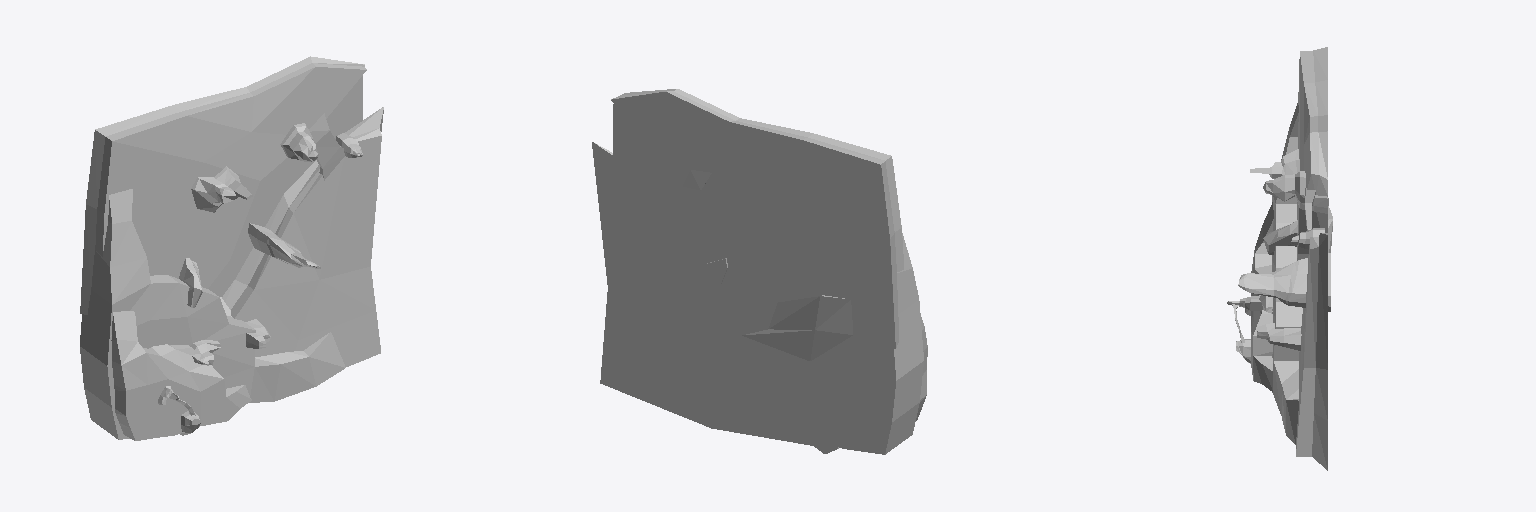
Rendered from canyon.obj.
3 renders of one model, left to right at view 1: azimuth 30°, elevation 25°; view 2: azimuth 150°, elevation 25°; view 3: azimuth 270°, elevation 25°, orthographic.
Visible parts, largest first — view 1: Plane.001_Plane.003, Plane_Plane.002, Cube_Cube.001, Cube.001_Cube.002, size_ref_Plane.001, Cube.005_Cube.006, Cube.006_Cube.007, Cube.002_Cube.003, Cube.003_Cube.004, Cube.008_Cube.009, Cube.009_Cube.010; view 2: size_ref_Plane.001, Plane.001_Plane.003, Cube_Cube.001, Plane_Plane.002, Cube.001_Cube.002, Cube.006_Cube.007, Cube.003_Cube.004; view 3: Plane_Plane.002, Plane.001_Plane.003, Cube_Cube.001, Cube.006_Cube.007, Cube.001_Cube.002, Cube.003_Cube.004, Cube.007_Cube.008, Cube.005_Cube.006, Cube.008_Cube.009.
Boxes of the visible parts, box(x1,y1,x2,y2) form: Plane.001_Plane.003: box(80, 56, 366, 314); Plane_Plane.002: box(222, 107, 383, 366); Cube_Cube.001: box(80, 189, 345, 439); Cube.001_Cube.002: box(111, 311, 251, 440); size_ref_Plane.001: box(208, 76, 362, 296); Cube.005_Cube.006: box(191, 166, 252, 212); Cube.006_Cube.007: box(248, 223, 320, 268); Cube.002_Cube.003: box(309, 113, 344, 180); Cube.003_Cube.004: box(280, 123, 318, 161); Cube.008_Cube.009: box(179, 258, 202, 307); Cube.009_Cube.010: box(190, 340, 220, 365); size_ref_Plane.001: box(613, 104, 878, 446); Plane.001_Plane.003: box(611, 89, 903, 349); Cube_Cube.001: box(644, 211, 923, 454); Plane_Plane.002: box(592, 142, 812, 445); Cube.001_Cube.002: box(768, 313, 927, 452); Cube.006_Cube.007: box(687, 258, 727, 292); Cube.003_Cube.004: box(672, 157, 711, 190); Plane_Plane.002: box(1296, 233, 1327, 470); Plane.001_Plane.003: box(1297, 47, 1327, 260); Cube_Cube.001: box(1272, 103, 1332, 444); Cube.006_Cube.007: box(1238, 253, 1330, 311); Cube.001_Cube.002: box(1251, 202, 1273, 391); Cube.003_Cube.004: box(1263, 171, 1328, 213); Cube.007_Cube.008: box(1257, 323, 1301, 350); Cube.005_Cube.006: box(1250, 149, 1299, 178); Cube.008_Cube.009: box(1263, 220, 1297, 254).
Bounding box in the file's own units: 228 × 233 × 69.41.